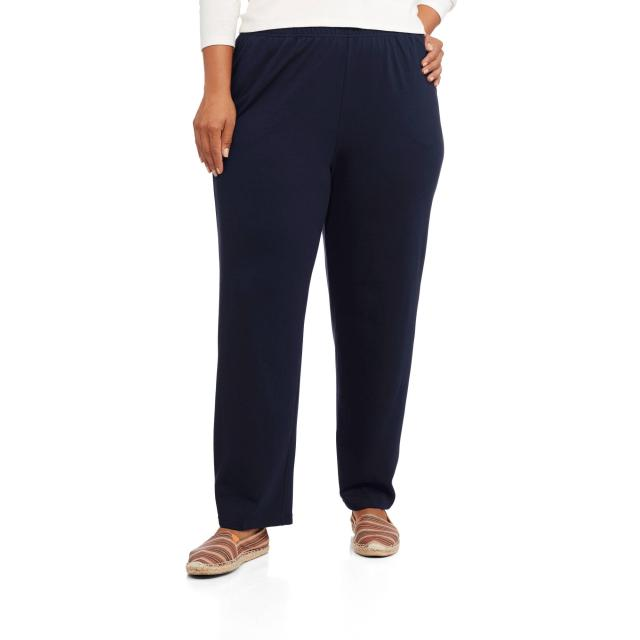long-pants: (206, 24, 445, 530)
